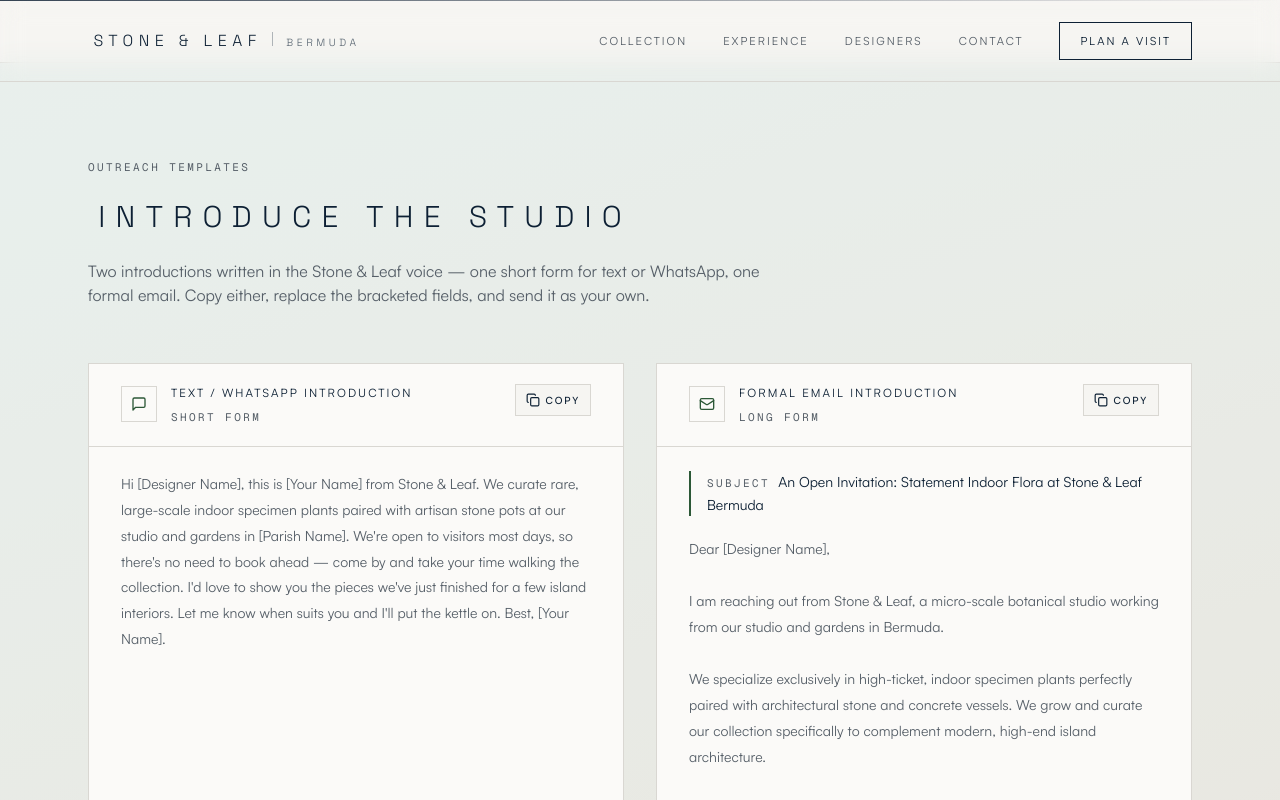
Test case: designers page › copies the WhatsApp template body to the clipboard
The width and height of the screenshot is (1280, 800).
(page scrolled)
What coordinates should you click on to do the following:
click the button with test id "designers.copy_button.whatsapp"
I would click on:
 (553, 400)
Its box is 515,384 -> 591,416.
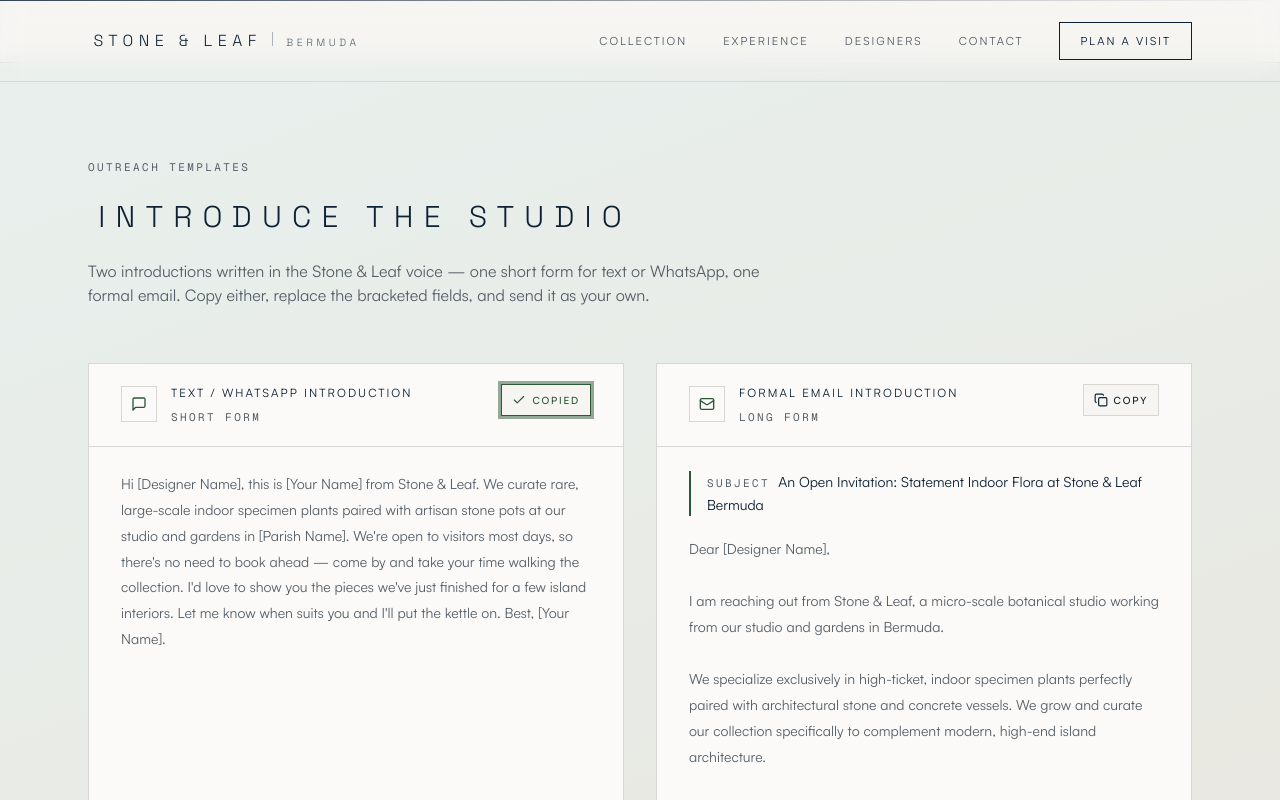
Check: the button with test id "designers.copy_button.whatsapp" reads "Copied", box 502,384 -> 591,416
